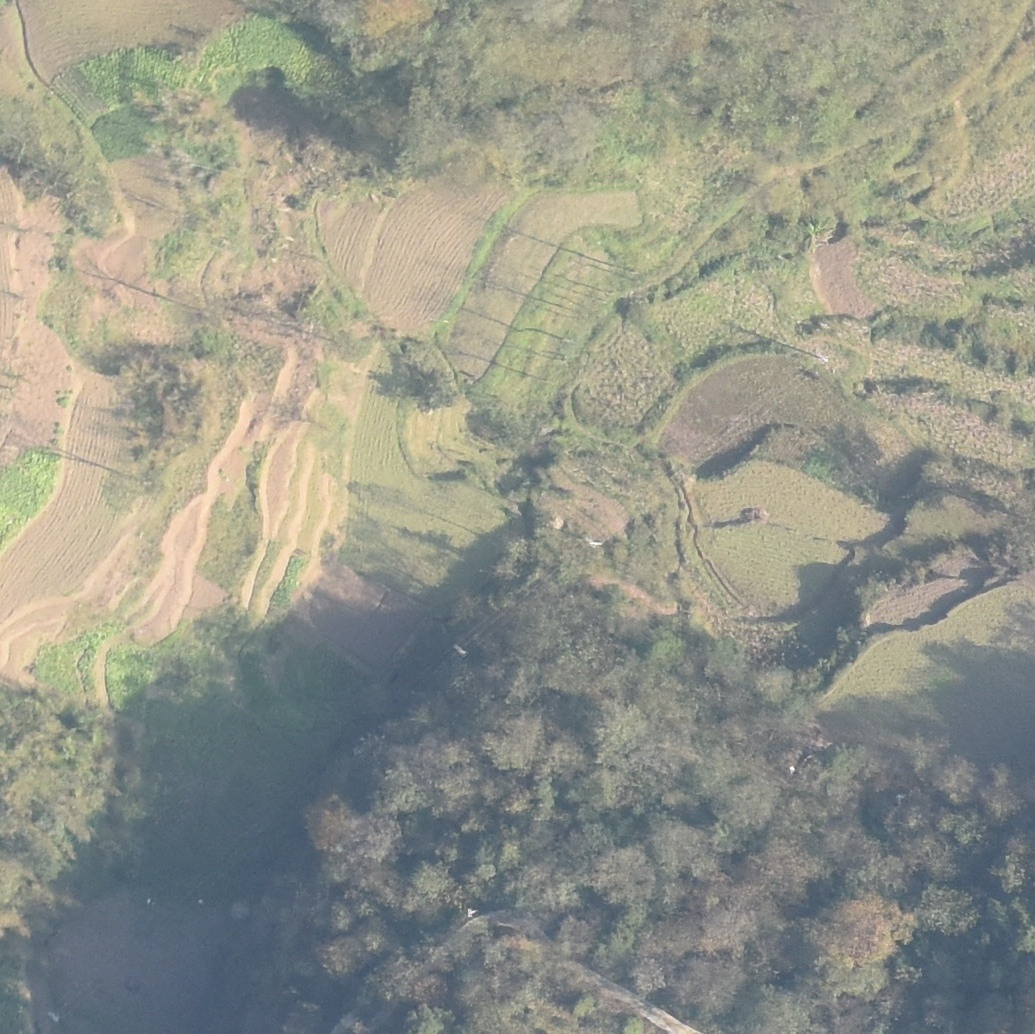cable-tower: (580, 533, 605, 554), (42, 1008, 65, 1024), (815, 352, 831, 368), (450, 644, 468, 658)
